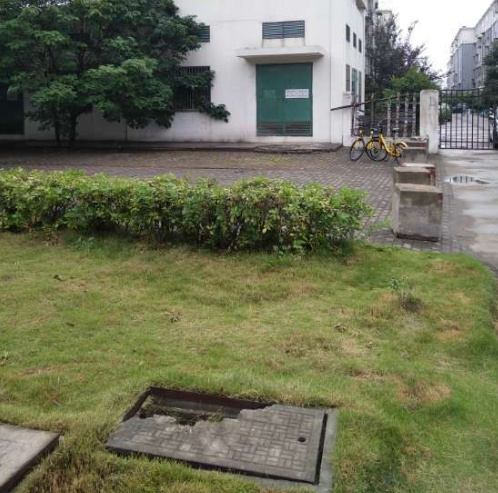broke: (104, 385, 339, 493)
